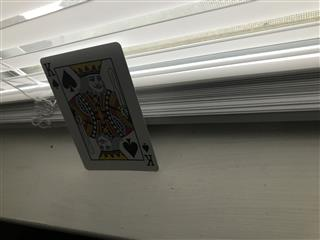KingOfSpades: (39, 41, 158, 172)
